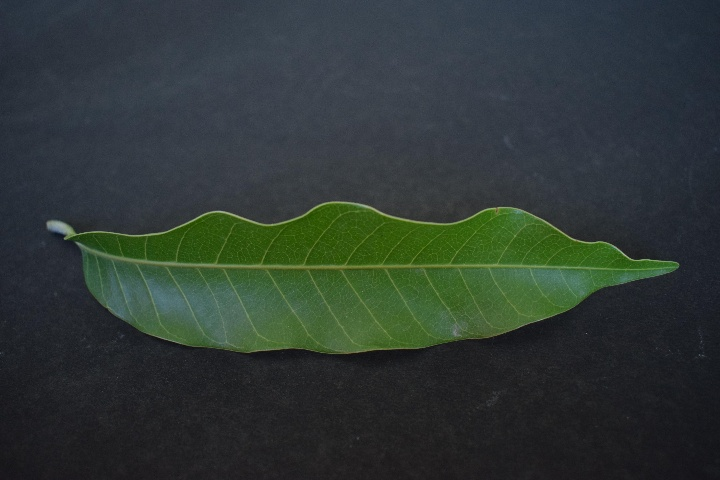healthy: (64, 205, 664, 351)
